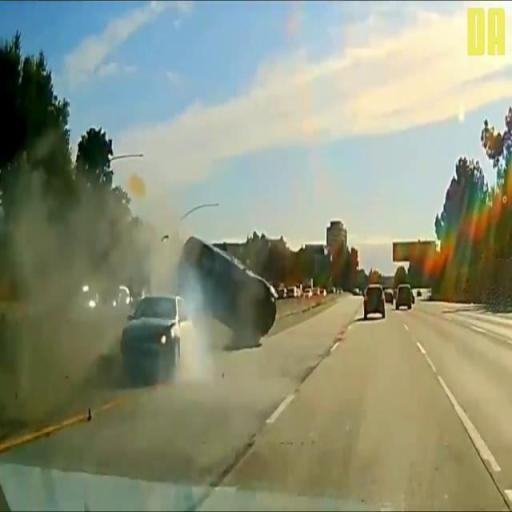Car: (176, 236, 282, 346), (118, 281, 199, 386)
Major Accident: (118, 235, 286, 388)
